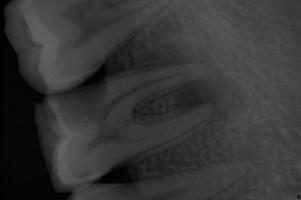Furcation Involvement: (172, 65, 248, 124)
